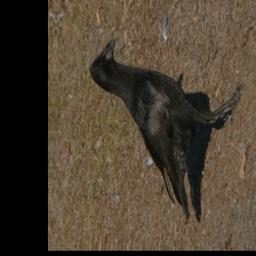Crow: (82, 41, 244, 222)
